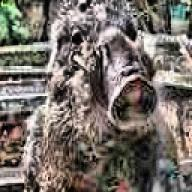boar: (18, 0, 188, 192)
